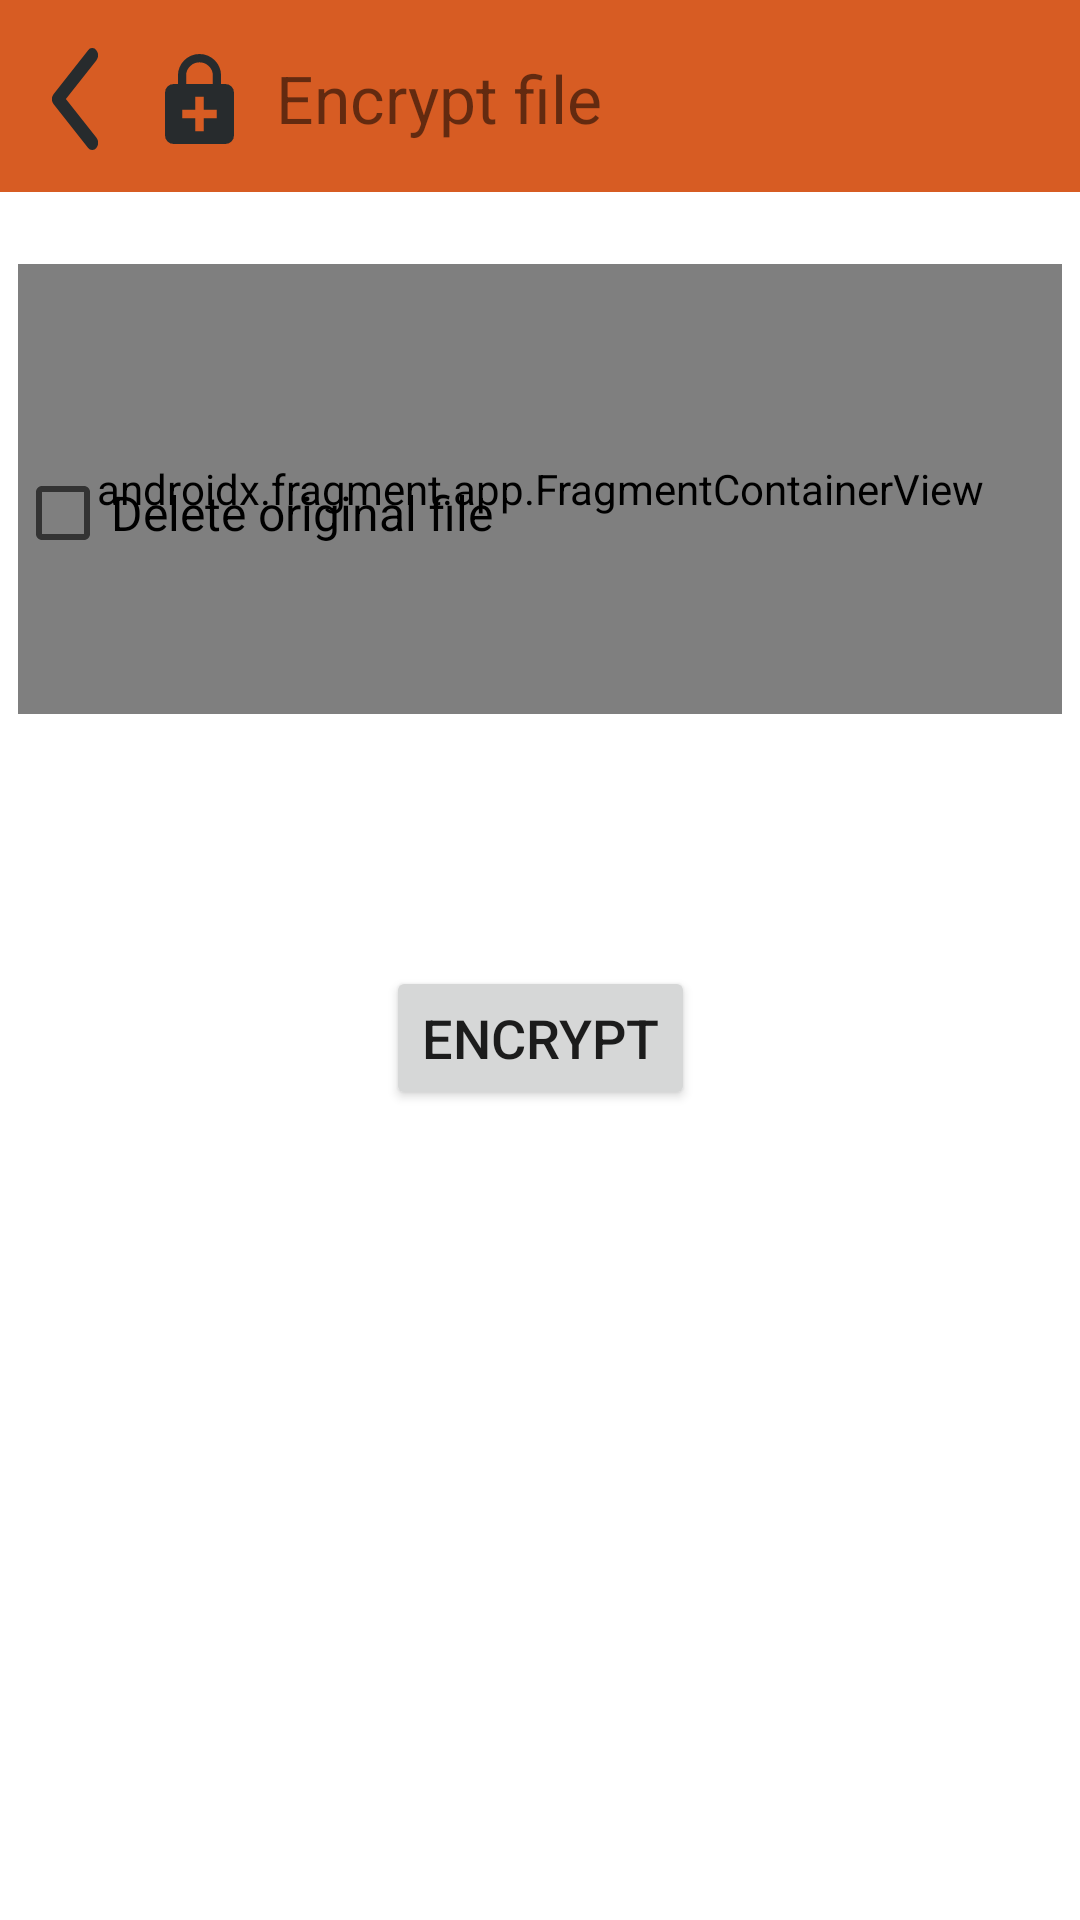

Locate icon controls on the screen. Image size 1080 x 1920, boxes as (x1, y1, x2, y2).
arrow left: (52, 48, 98, 150)
encryption: (165, 54, 234, 144)
